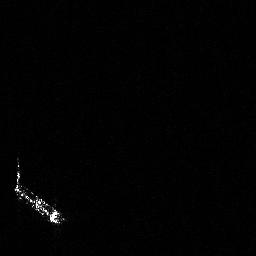ship: (11, 157, 67, 226)
